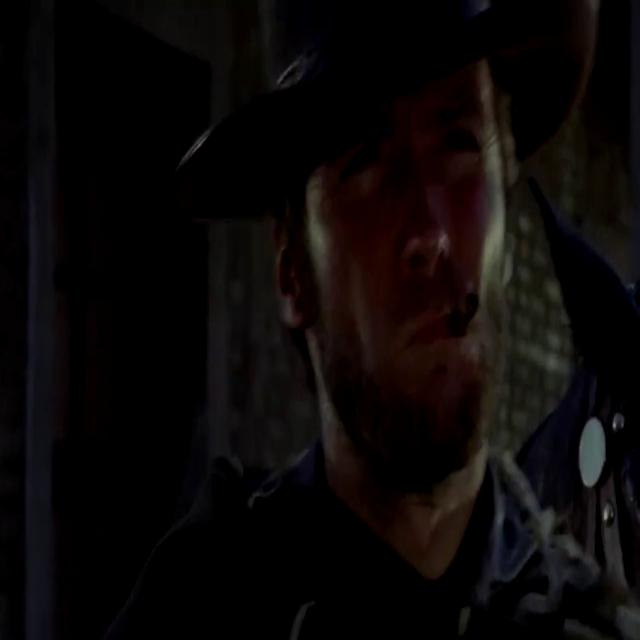Smooking: (448, 283, 486, 335)
